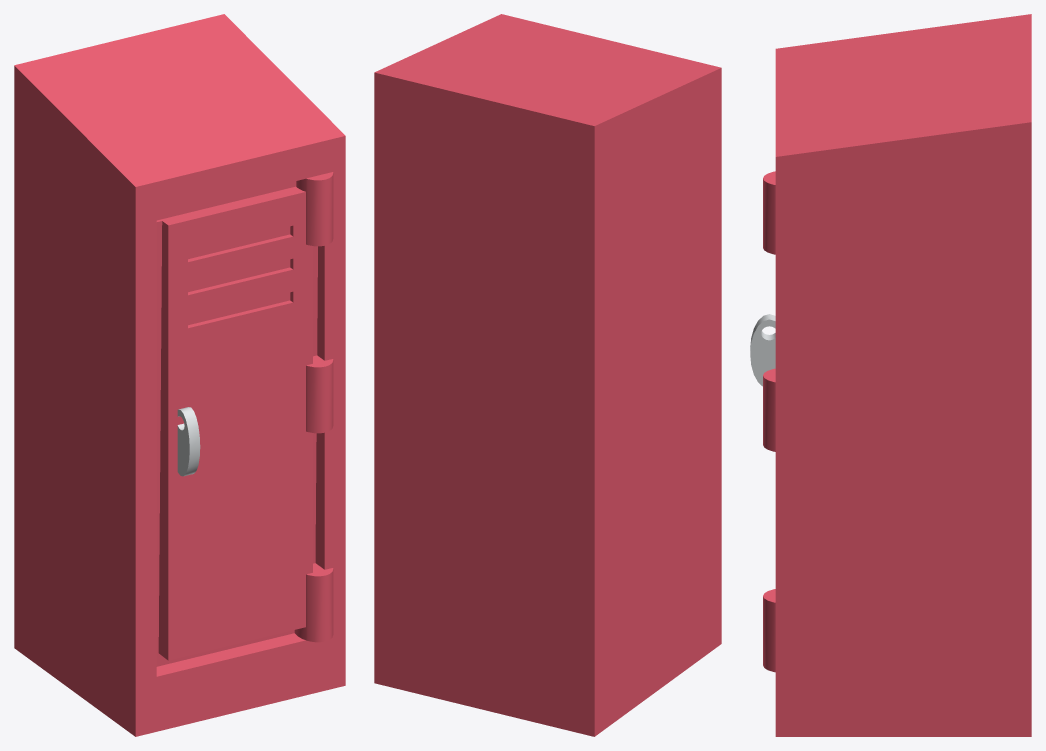
Rendered from lockers.glb.
3 renders of one model, left to right at view 1: azimuth 30°, elevation 25°; view 2: azimuth 150°, elevation 25°; view 3: azimuth 270°, elevation 25°, orthographic. The views are drawn at different scales.
Parts seen in each view (by area): view 1: Object_3, Object_2; view 2: Object_3; view 3: Object_3, Object_2.
Part boxes in pixels (x1,y1,x2,y2): Object_3: (14, 14, 345, 736); Object_2: (177, 407, 200, 476); Object_3: (374, 14, 721, 736); Object_3: (763, 14, 1031, 736); Object_2: (750, 314, 775, 386).
Size of the model in its own units: 20 by 53 by 22.
